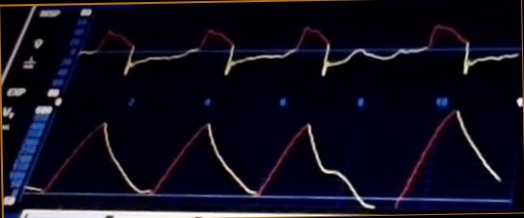Ineffective_effort Flow: (77, 17, 518, 80)
Ineffective_effort Volume: (28, 111, 499, 209)
